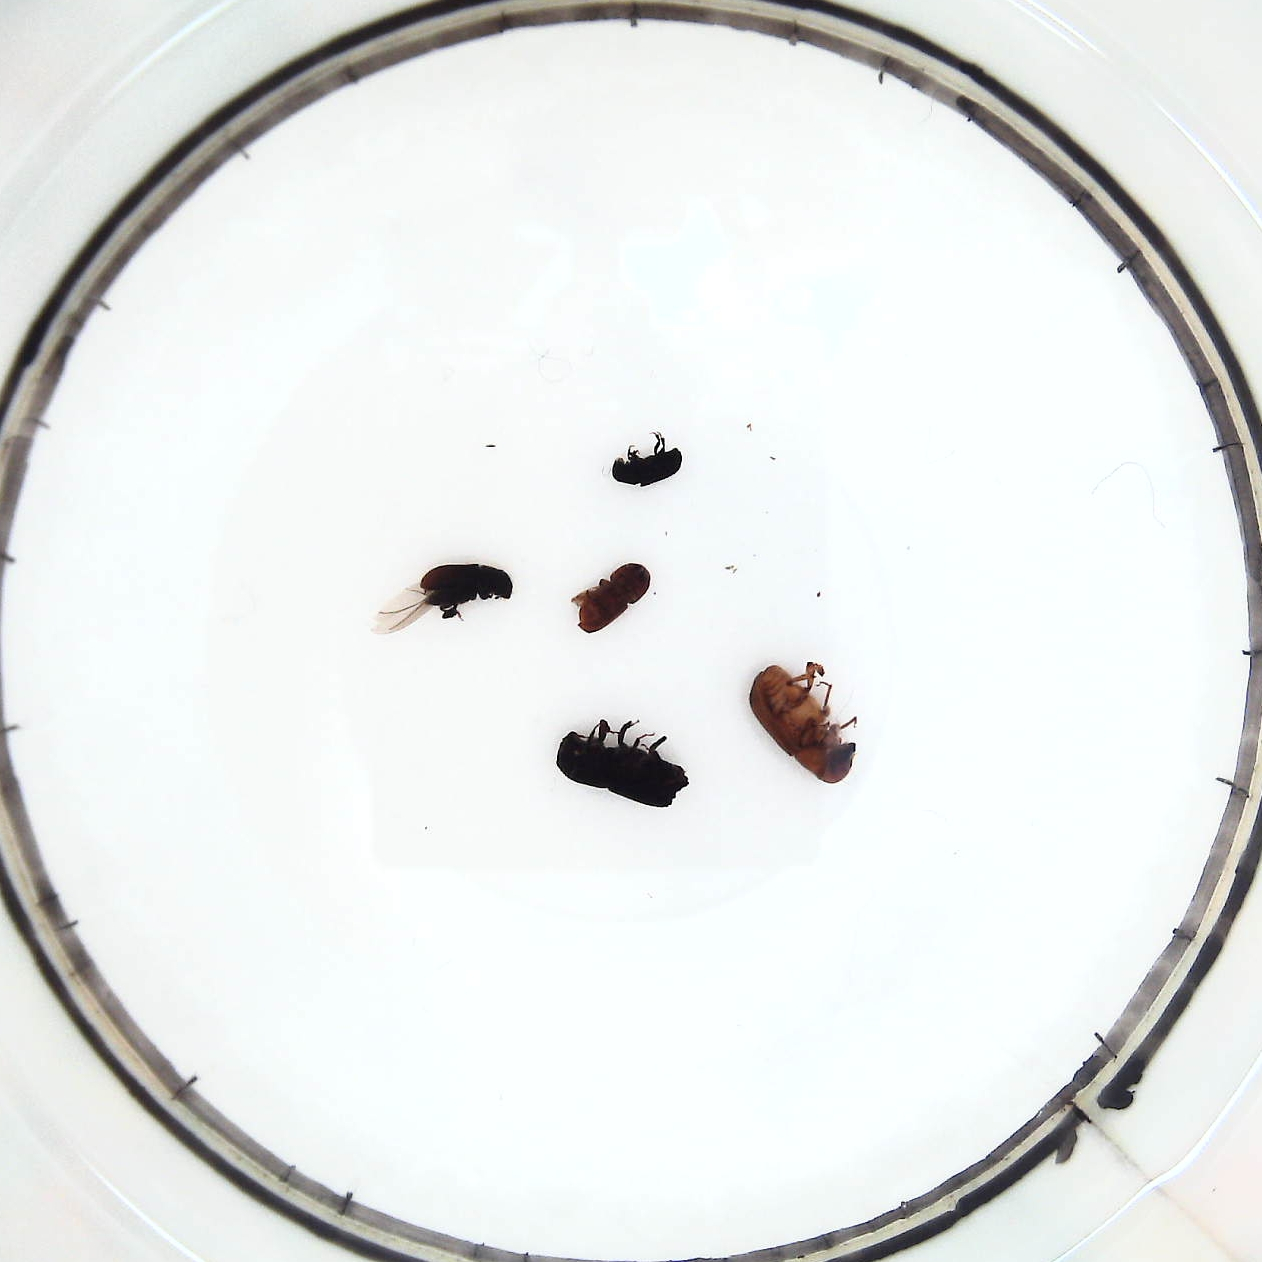Boerner: (548, 711, 686, 816)
Leconte: (741, 656, 864, 789)
armandi: (378, 562, 517, 625)
coleoptera: (607, 428, 686, 489)
linnaeus: (570, 562, 656, 640)
